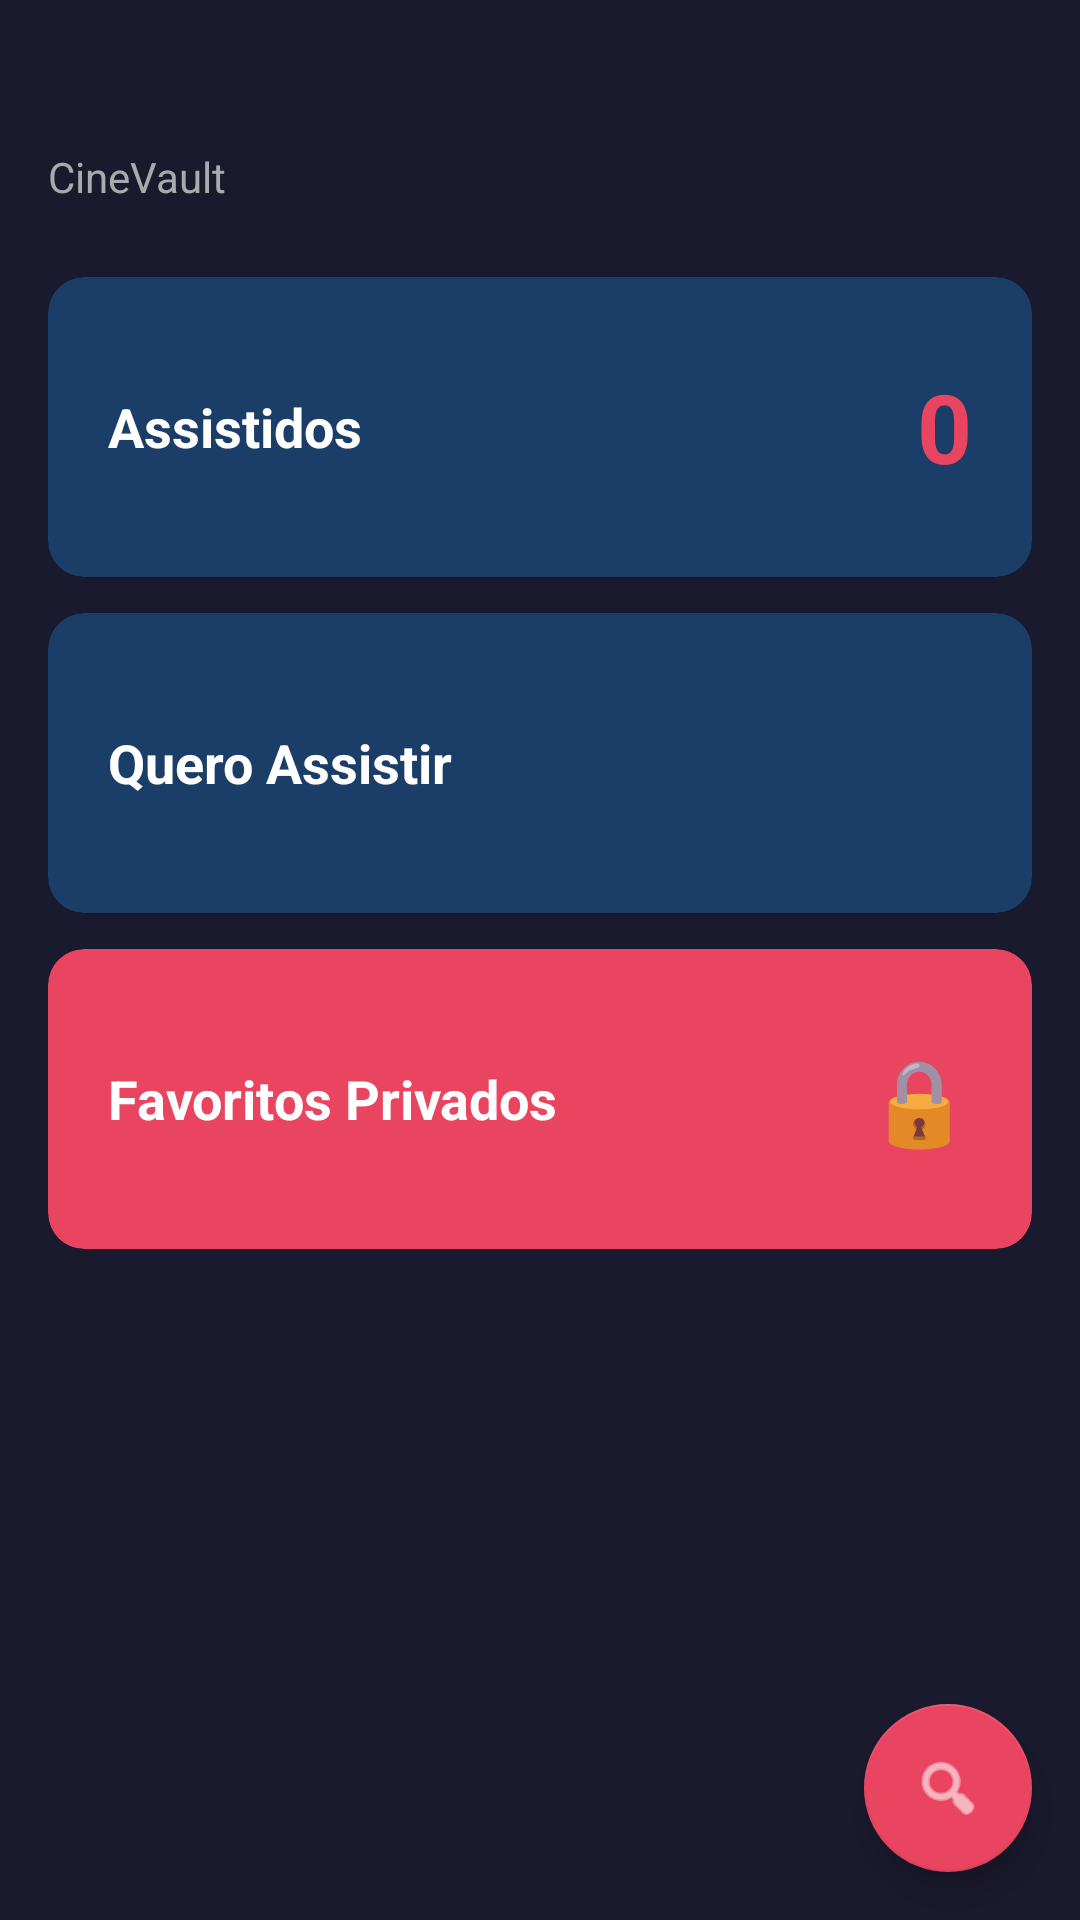

Icon bounding boxes for this 1080x1920 phone screenshot, format (x1, y1, x2, y2):
Busca: (864, 1704, 1032, 1872)
